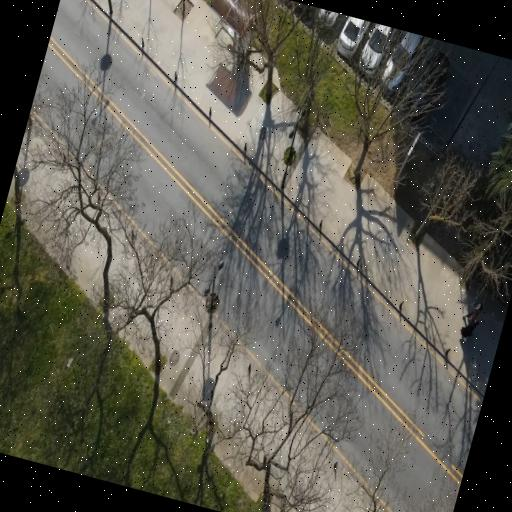car: (382, 32, 421, 91), (359, 23, 390, 75), (336, 16, 367, 58), (318, 8, 337, 27)
person: (462, 303, 482, 321), (460, 320, 477, 339)
